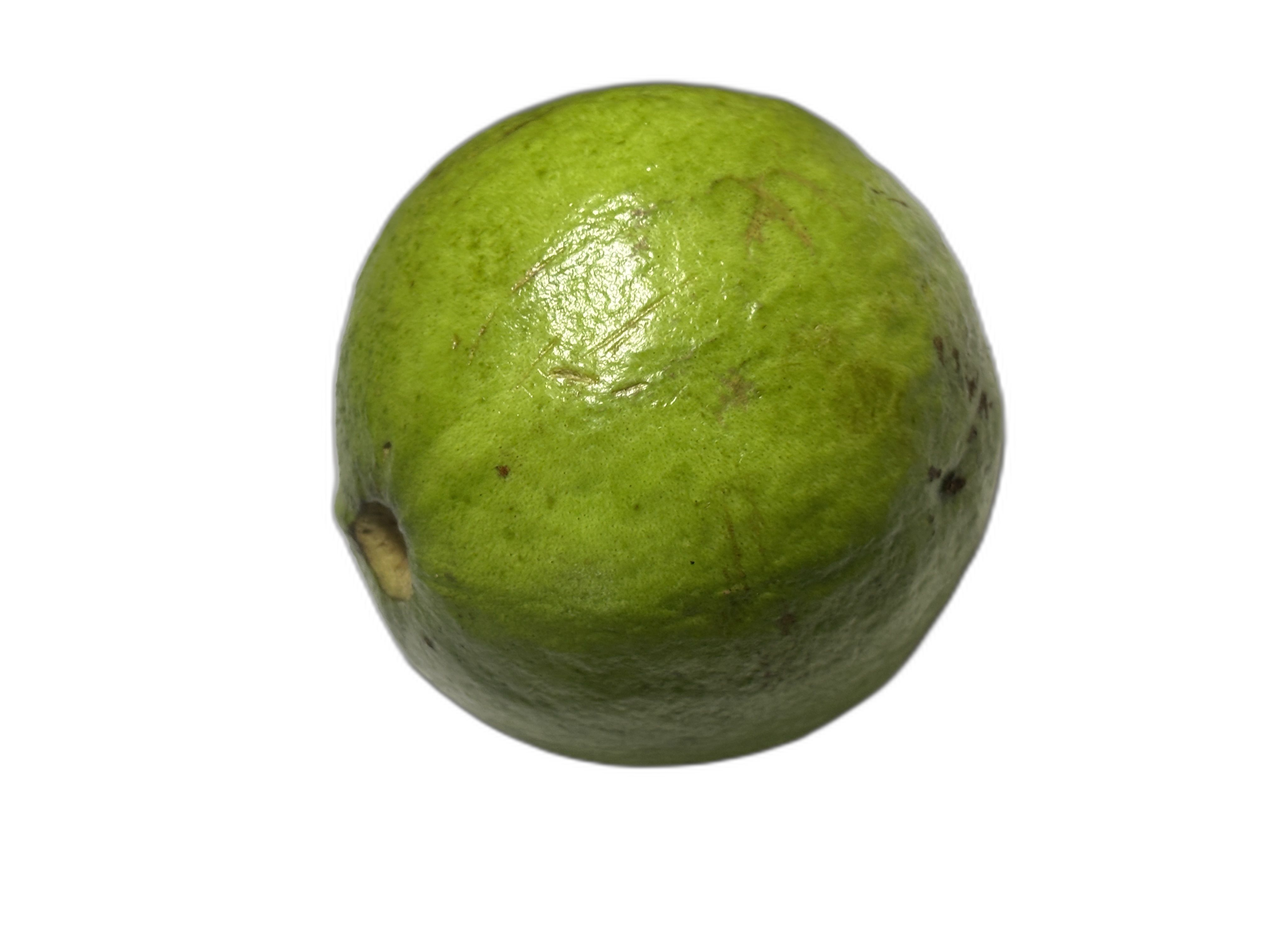guava: (177, 48, 987, 817)
